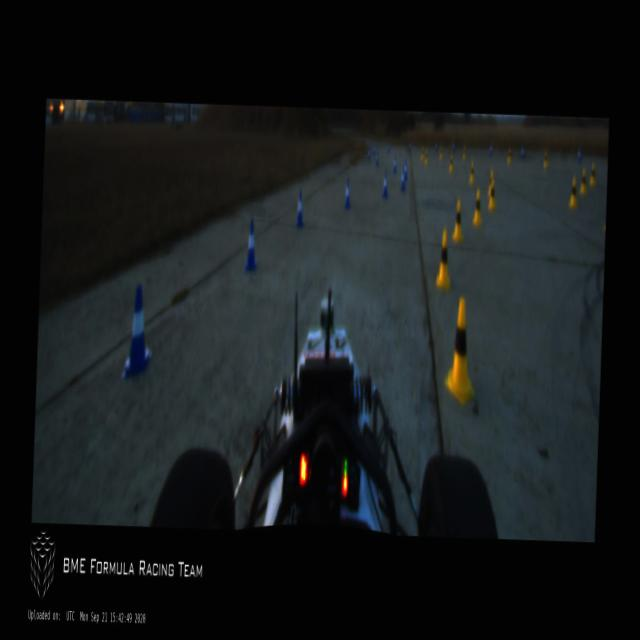blue_cone: (122, 282, 154, 376), (244, 216, 258, 272), (294, 190, 304, 227), (343, 178, 351, 209), (381, 172, 388, 198), (399, 166, 406, 191), (392, 154, 398, 173), (404, 159, 408, 181), (375, 150, 379, 167), (577, 146, 581, 162), (520, 143, 524, 158), (488, 143, 492, 157), (367, 147, 370, 161), (434, 140, 437, 152), (372, 144, 375, 154), (387, 142, 389, 152), (452, 142, 454, 152)
yellow_cone: (443, 298, 476, 402), (433, 230, 452, 290), (452, 200, 464, 242), (472, 188, 482, 228), (568, 178, 578, 209), (488, 178, 497, 209), (579, 169, 588, 195), (588, 164, 596, 187), (487, 168, 493, 196), (448, 154, 454, 172), (543, 148, 548, 168), (506, 146, 511, 163), (470, 162, 474, 182), (462, 144, 466, 160), (424, 148, 428, 162), (439, 144, 442, 159), (420, 144, 423, 156)
